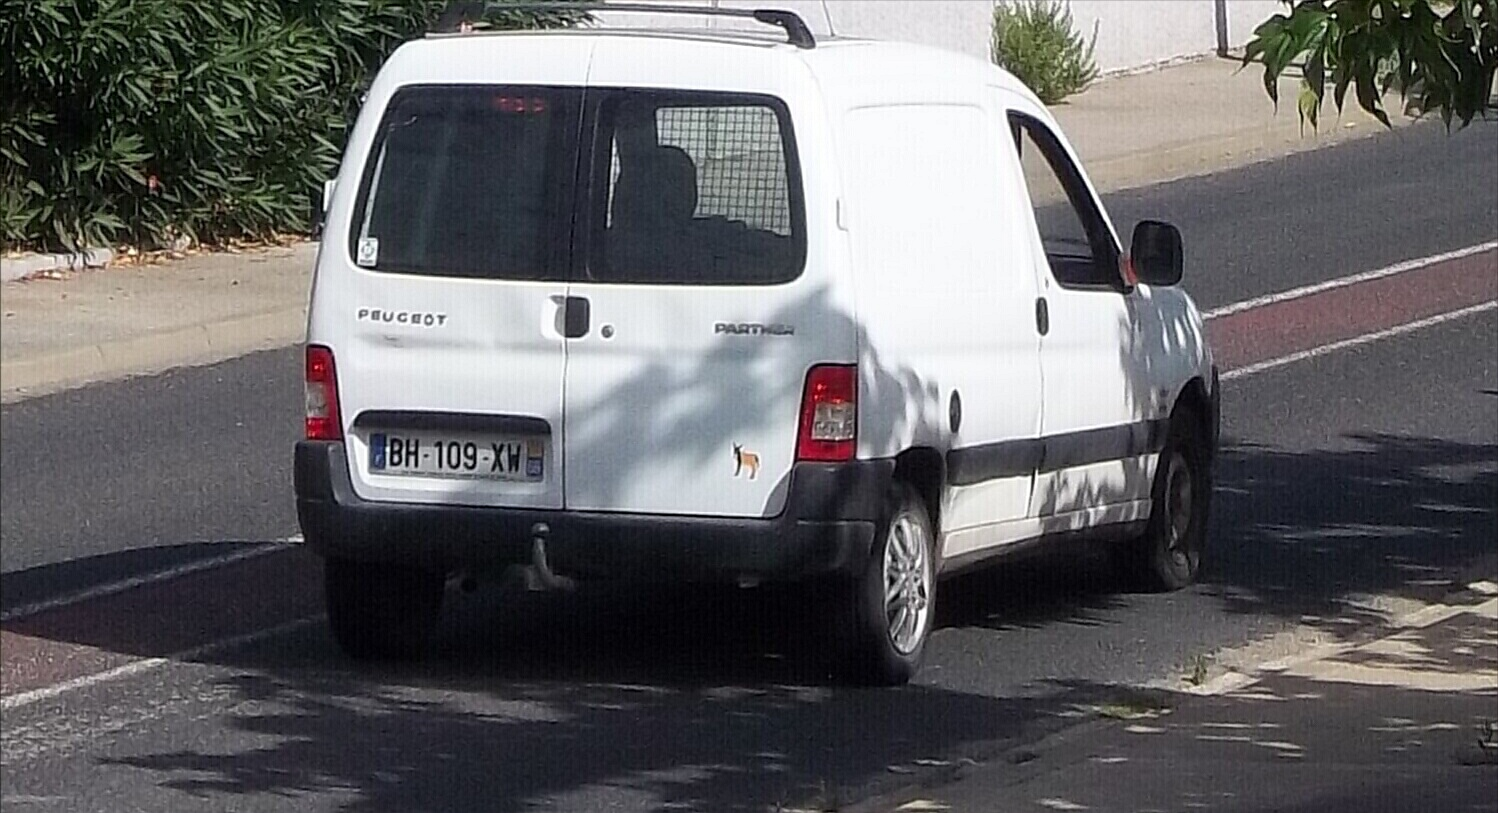licence plate: (362, 426, 549, 483)
